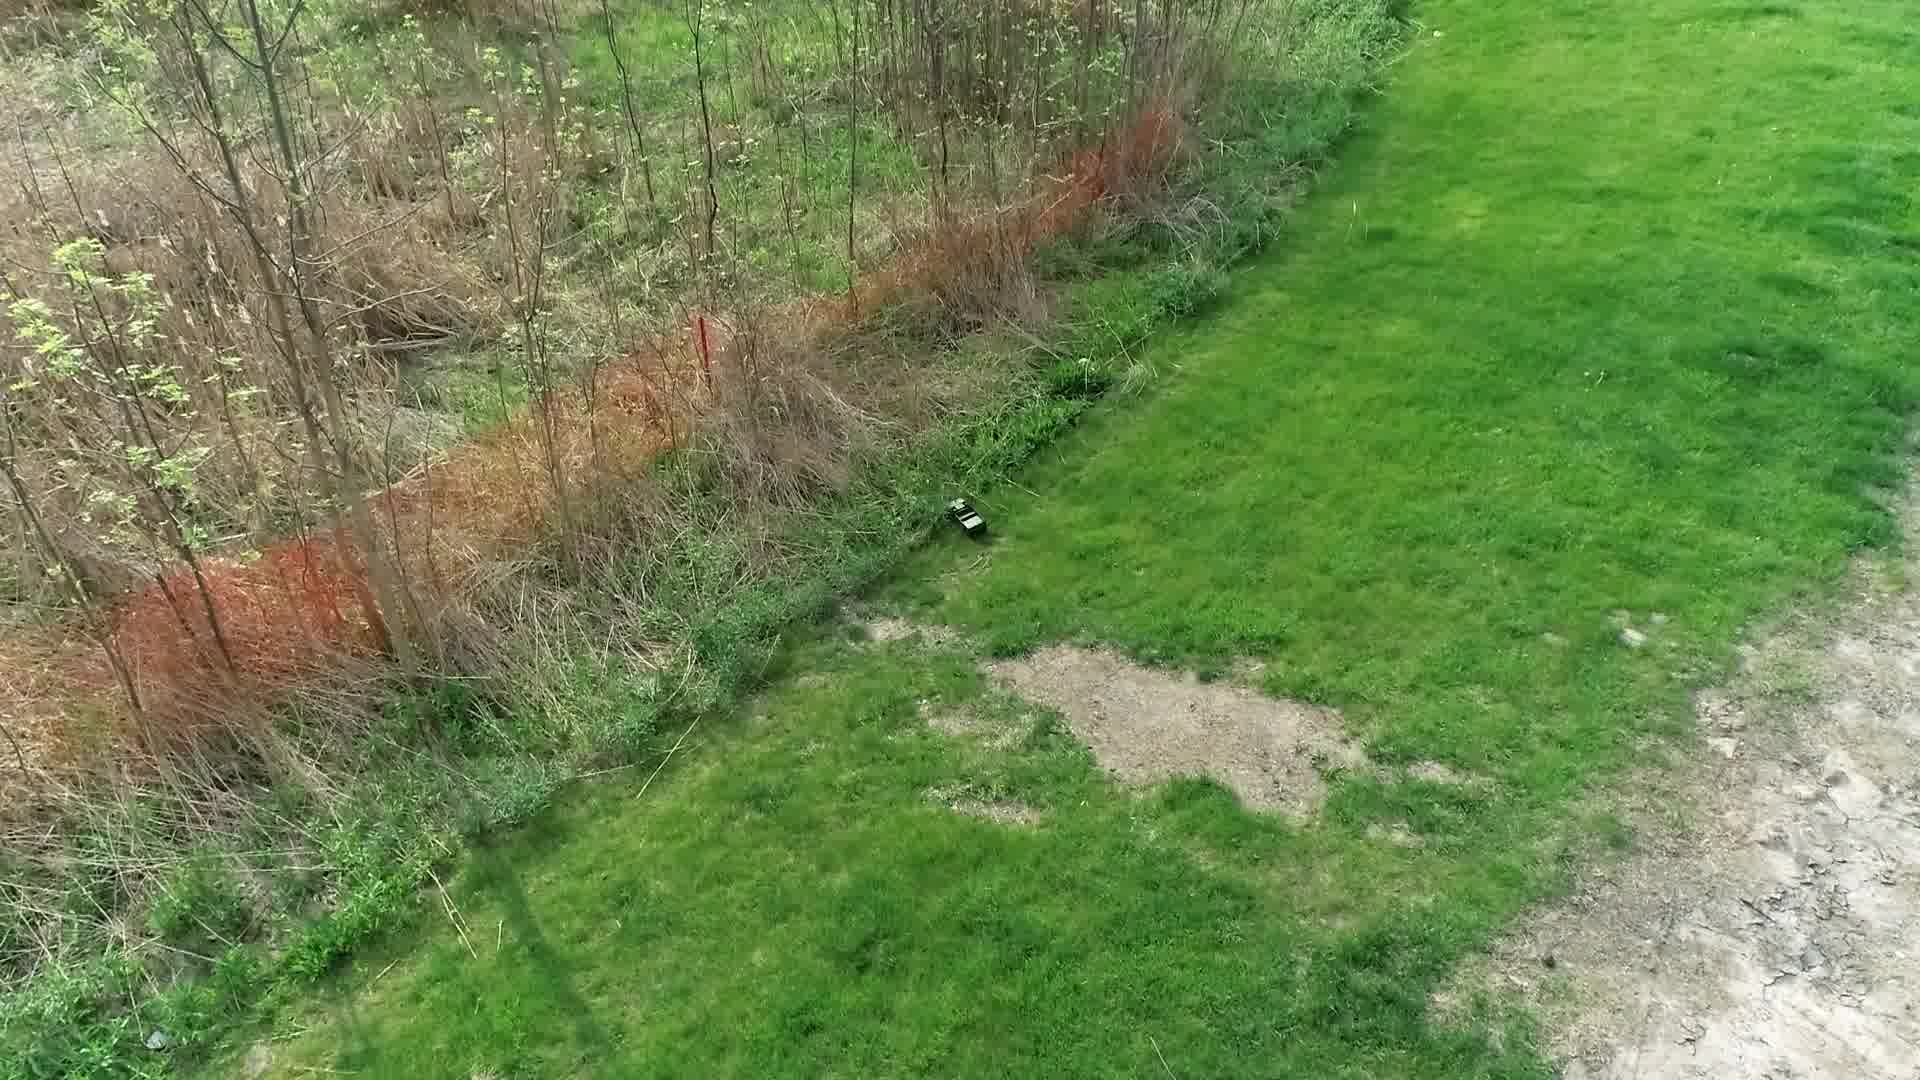transporter9: (942, 495, 990, 541)
